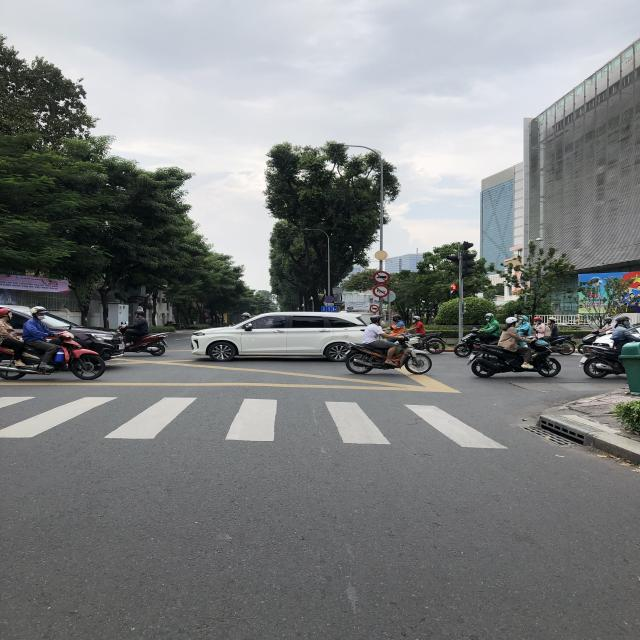Bien bao cam xe so-mi ro-mooc: (372, 270, 391, 285), (369, 304, 379, 313)
